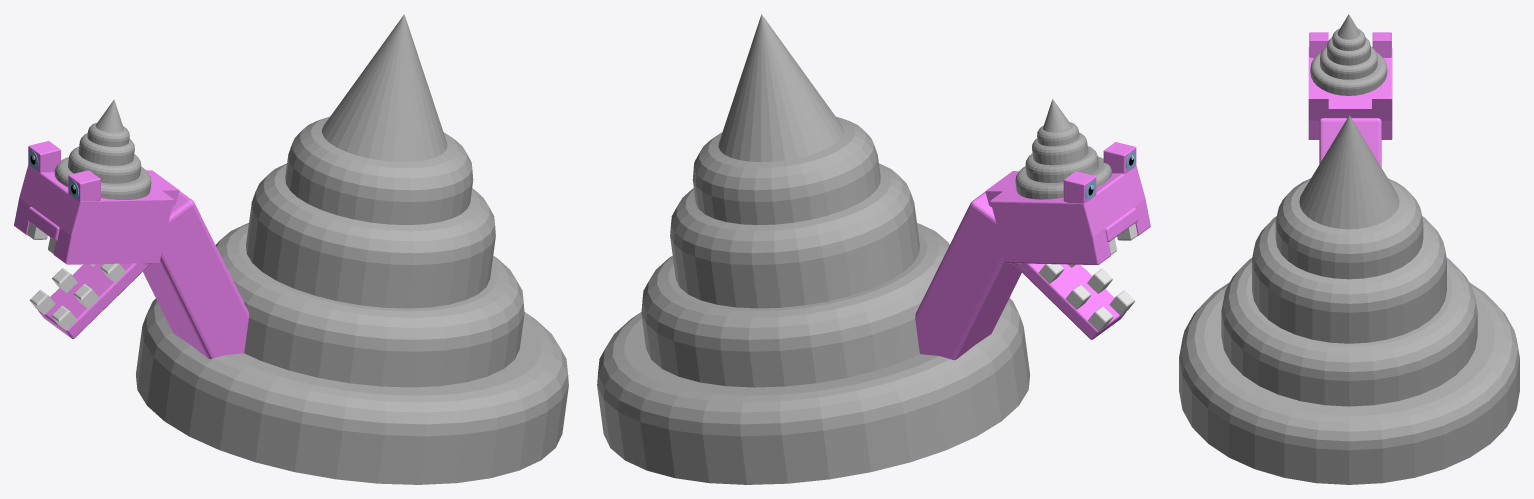
File: Body.fbx
3 renders of one model, left to right at view 1: azimuth 30°, elevation 25°; view 2: azimuth 150°, elevation 25°; view 3: azimuth 270°, elevation 25°, orthographic. The views are drawn at different scales.
Visible parts, largest first — view 1: Body; view 2: Body; view 3: Body.
Boxes of the visible parts, x1,y1,x2,y2 form: Body: (14,14,568,484); Body: (597,14,1150,484); Body: (1179,14,1519,484).
Size of the model in its own units: 1945 by 1505 by 1452.
